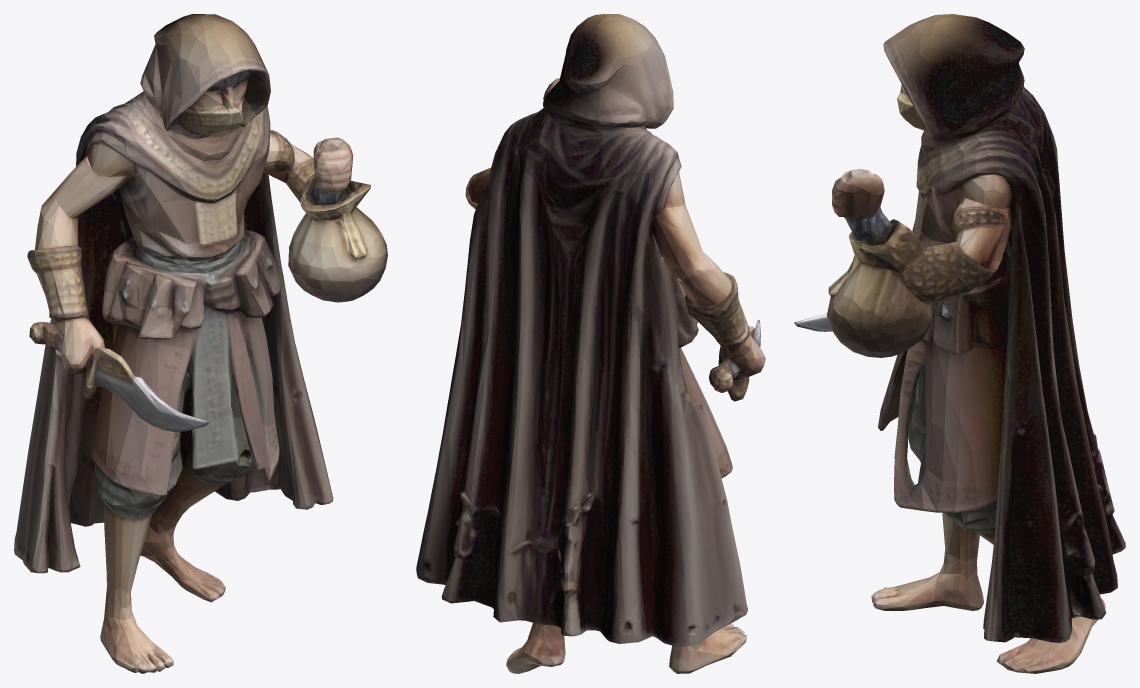
The model's file is cutpurse.glb.
The picture shows the model from 3 angles, left to right: view 1: azimuth 30°, elevation 25°; view 2: azimuth 150°, elevation 25°; view 3: azimuth 270°, elevation 25°; orthographic projection. The views are drawn at different scales.
Visible parts, largest first — view 1: world; view 2: world; view 3: world.
Part boxes in pixels (<box>): world: <box>14,14,387,673</box>; world: <box>416,14,765,673</box>; world: <box>794,14,1125,673</box>.
Size of the model in its own units: 0.5199 by 0.9995 by 0.4728.
Materials: 1 (1 with a texture image).
